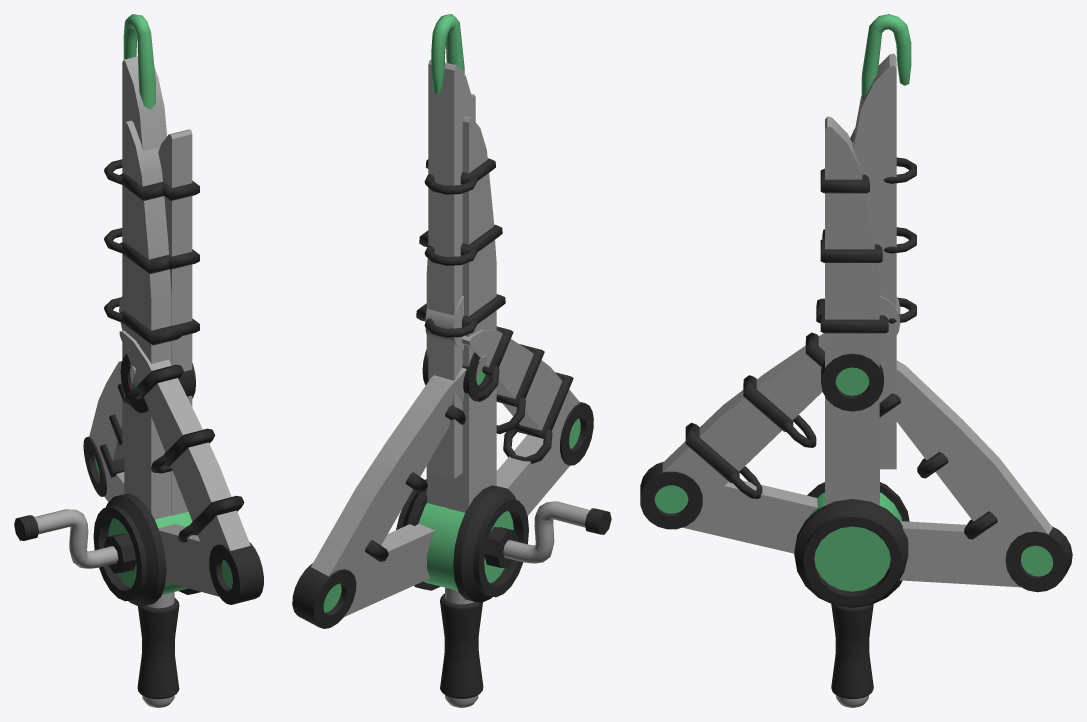
Rendered from RodExport-1.fbx.
3 renders of one model, left to right at view 1: azimuth 30°, elevation 25°; view 2: azimuth 150°, elevation 25°; view 3: azimuth 270°, elevation 25°, orthographic. The views are drawn at different scales.
Visible parts, largest first — view 1: top (×5), ReelBase, Grip (×2), bottom1 (×2), pCube1 (×6), Hinge (×2), Base (×2), Handle, String, pCube2, pCube3, polySurface1; view 2: top (×4), ReelBase, Base (×2), Hinge (×3), Grip (×2), bottom1 (×2), Handle, bottom, pCube1 (×3), String, pTorus4 (×3), pCube2 (+3 smaller); view 3: top (×4), Base (×2), ReelBase, Hinge (×3), bottom1, Grip (×2), pCube1 (×4), polySurface1, String, bottom, pCube2, pPlane3.
Boxes of the visible parts, <box> form: top (×5): <box>89,56,250,563</box>; ReelBase: <box>93,493,200,606</box>; Grip (×2): <box>137,592,179,707</box>; bottom1 (×2): <box>124,393,192,519</box>; pCube1 (×6): <box>100,173,244,535</box>; Hinge (×2): <box>83,436,263,604</box>; Base (×2): <box>99,452,219,596</box>; Handle: <box>14,509,118,568</box>; String: <box>123,14,155,109</box>; pCube2: <box>164,428,215,466</box>; pCube3: <box>137,364,183,397</box>; polySurface1: <box>120,354,148,412</box>; top (×4): <box>311,59,580,588</box>; ReelBase: <box>396,479,528,602</box>; Base (×2): <box>344,421,569,616</box>; Hinge (×3): <box>292,296,593,628</box>; Grip (×2): <box>440,587,483,707</box>; bottom1 (×2): <box>426,387,496,512</box>; Handle: <box>503,501,611,563</box>; bottom: <box>428,336,462,478</box>; pCube1 (×3): <box>460,224,573,438</box>; String: <box>431,14,464,94</box>; pTorus4 (×3): <box>424,174,477,337</box>; pCube2: <box>496,344,544,406</box>; top (×4): <box>662,53,1052,558</box>; Base (×2): <box>682,480,1020,587</box>; ReelBase: <box>794,482,909,607</box>; Hinge (×3): <box>640,296,1072,592</box>; bottom1: <box>825,396,879,505</box>; Grip (×2): <box>831,604,873,707</box>; pCube1 (×4): <box>685,168,888,483</box>; polySurface1: <box>821,353,883,411</box>; String: <box>861,14,911,100</box>; bottom: <box>879,336,896,469</box>; pCube2: <box>743,375,793,431</box>; pPlane3: <box>835,367,869,395</box>.
Bounding box in the file's own units: 3.72 × 12.24 × 6.95.
